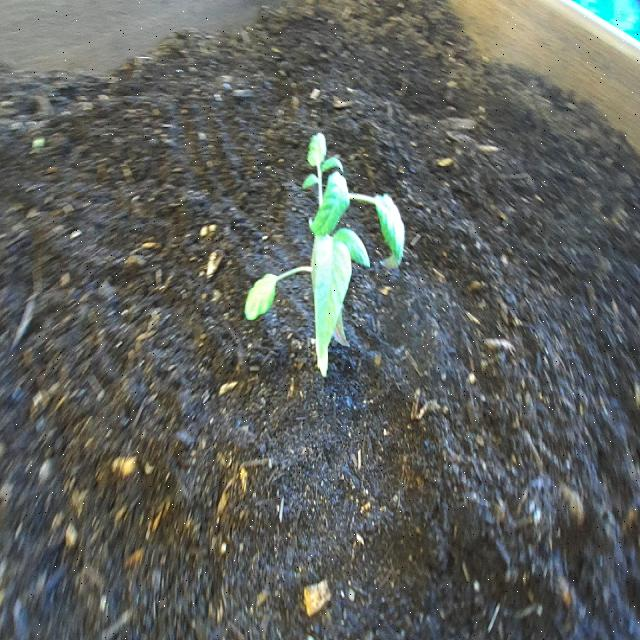Healthy: (238, 122, 411, 384)
